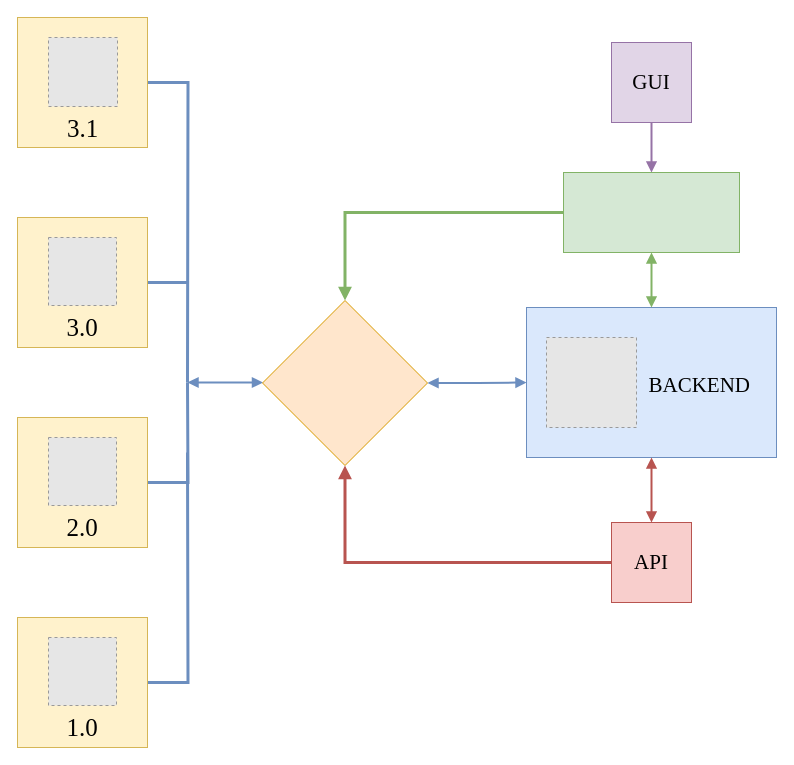
Image size: 794x765. Some labels were removed from this diagram. Grey dashed boxes stand in for pictures. The shapes that lost their labels are listed below. From the top down, each one's centre as x and y in pixels, then its label:
the point at 651,212: INTERFACE
the point at 345,383: VERSION SELECT
